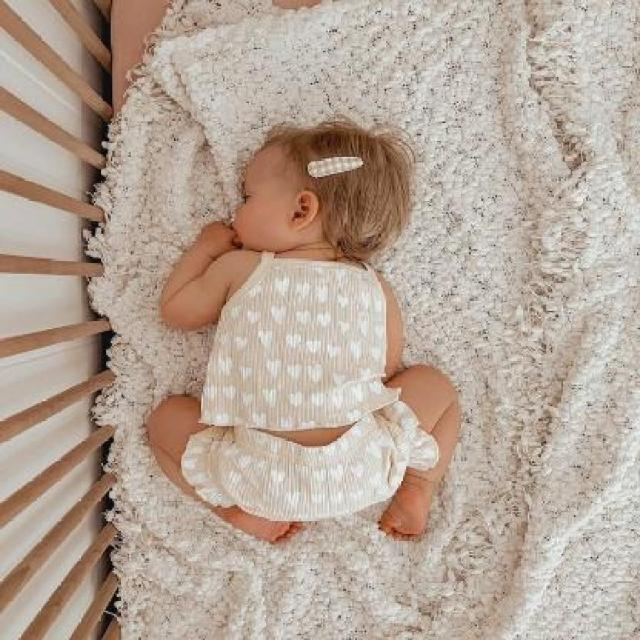baby: (147, 121, 463, 544)
